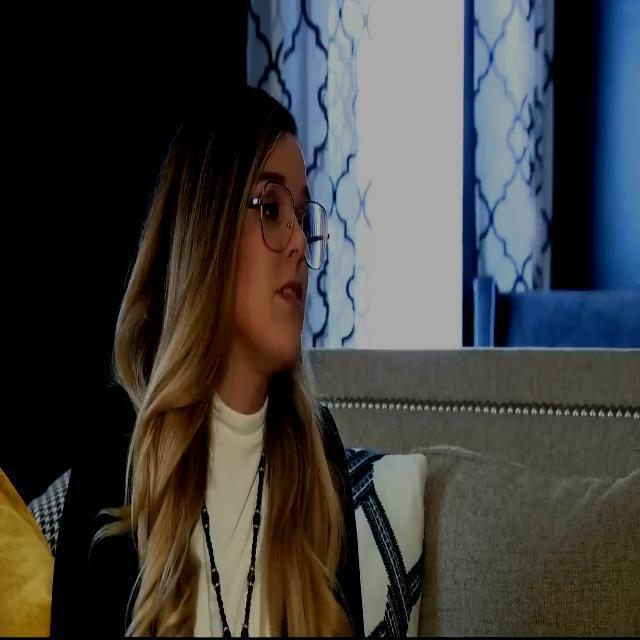non-fight: (61, 51, 341, 640)
